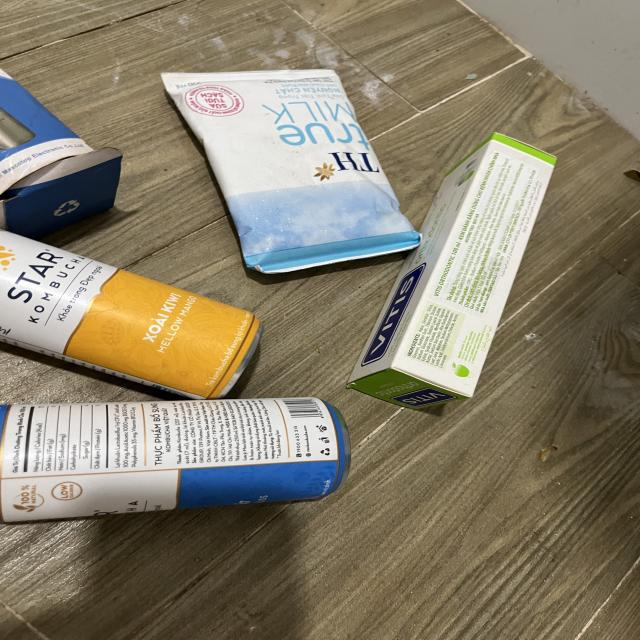can: (0, 226, 267, 407), (0, 396, 346, 524)
cardboard box: (350, 134, 563, 412), (0, 66, 124, 240)
packet: (162, 71, 422, 276)
